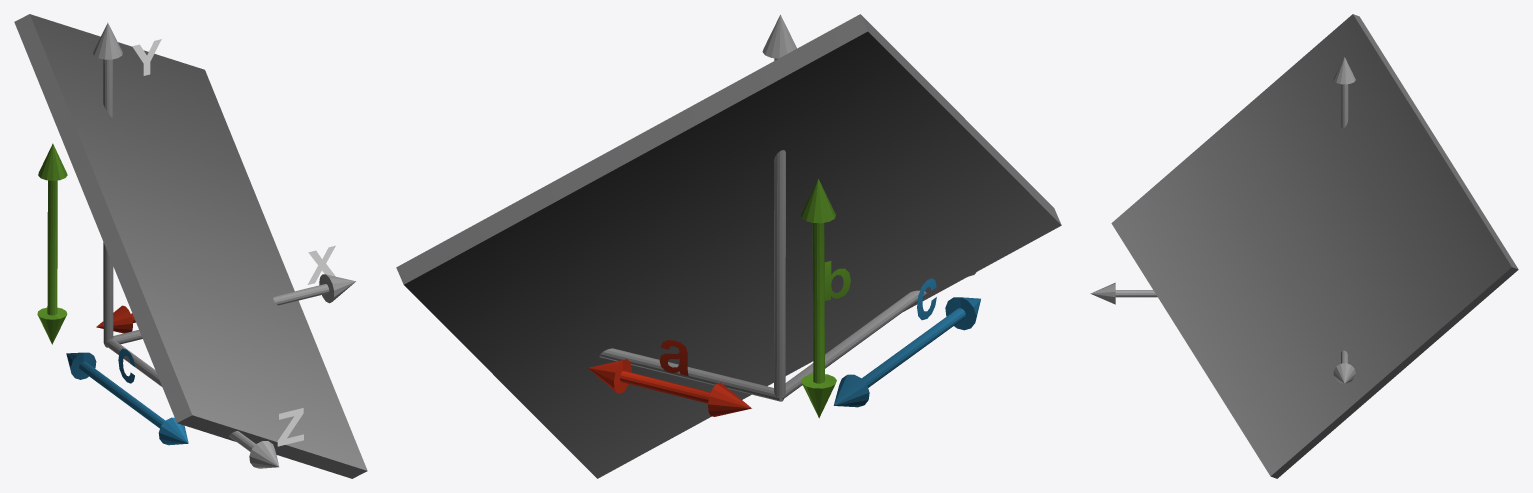
3 renders of one model, left to right at view 1: azimuth 30°, elevation 25°; view 2: azimuth 150°, elevation 25°; view 3: azimuth 270°, elevation 25°, orthographic. The views are drawn at different scales.
Visible parts, largest first — view 1: Cube.014, Cylinder.007, Cylinder.006, Cylinder.004, Cylinder.005, Cylinder.003, Text.012, Cylinder.008, Text.010, Text.011; view 2: Cube.014, Cylinder.004, Cylinder.007, Cylinder.006, Cylinder.008, Cylinder.003, Cylinder.005; view 3: Cube.014, Cylinder.004, Cylinder.005, Cylinder.003.
Part boxes in pixels (x1,y1,x2,y2): Cube.014: (14, 14, 367, 478); Cylinder.007: (37, 143, 67, 344); Cylinder.006: (66, 352, 188, 445); Cylinder.004: (93, 22, 122, 343); Cylinder.005: (104, 338, 279, 468); Cylinder.003: (104, 274, 355, 347); Text.012: (277, 408, 303, 446); Cylinder.008: (96, 305, 135, 333); Text.010: (307, 245, 335, 284); Text.011: (132, 39, 161, 75); Cube.014: (396, 14, 1061, 478); Cylinder.004: (762, 14, 796, 398); Cylinder.007: (801, 179, 836, 418); Cylinder.006: (833, 297, 980, 407); Cylinder.008: (588, 359, 751, 416); Cylinder.003: (599, 348, 783, 401); Cylinder.005: (782, 272, 976, 398); Cube.014: (1111, 14, 1518, 478); Cylinder.004: (1333, 57, 1355, 128); Cylinder.005: (1090, 282, 1157, 304); Cylinder.003: (1333, 350, 1355, 383).
Bounding box in the file's own units: 1.57 × 2.23 × 2.36.
4 materials, 1 textured.
